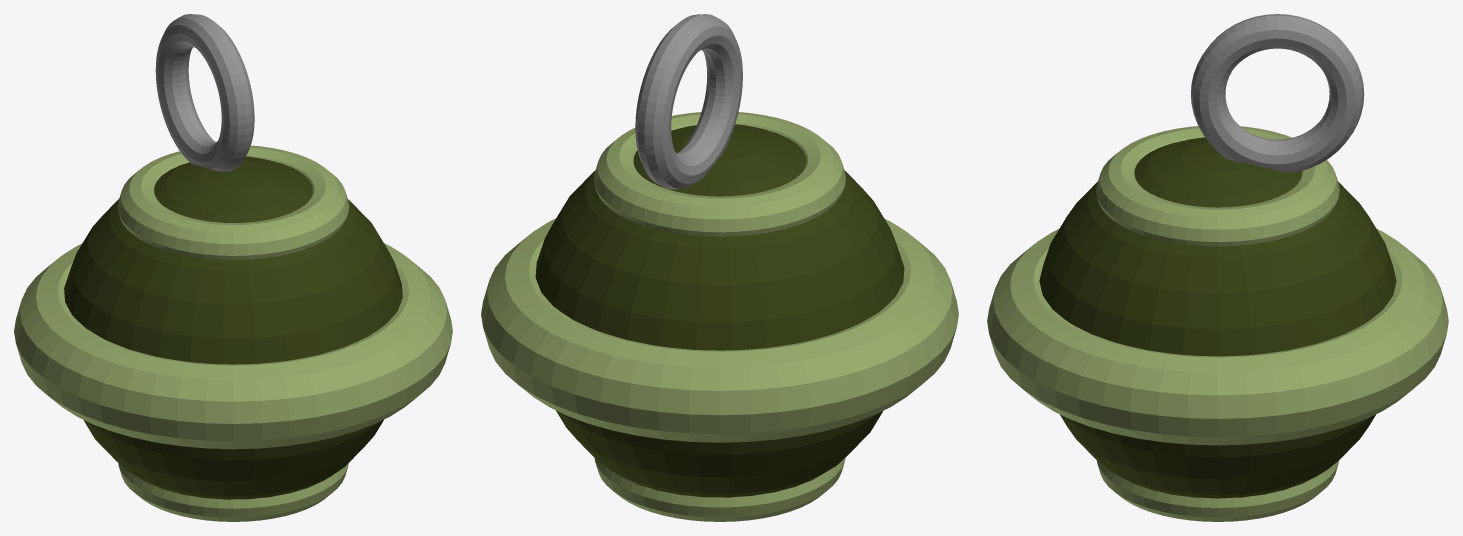
Rendered from Grenade.fbx.
3 renders of one model, left to right at view 1: azimuth 30°, elevation 25°; view 2: azimuth 150°, elevation 25°; view 3: azimuth 270°, elevation 25°, orthographic. The views are drawn at different scales.
Parts seen in each view (by area): view 1: Sphere, Torus, Torus.001, Torus.003, Torus.002; view 2: Sphere, Torus, Torus.001, Torus.003, Torus.002; view 3: Sphere, Torus, Torus.003, Torus.001, Torus.002.
Part boxes in pixels (<box>): Sphere: <box>64,156,402,499</box>; Torus: <box>14,243,452,449</box>; Torus.001: <box>117,145,349,259</box>; Torus.003: <box>155,14,254,171</box>; Torus.002: <box>118,463,348,521</box>; Sphere: <box>535,124,904,497</box>; Torus: <box>481,218,958,442</box>; Torus.001: <box>594,112,845,236</box>; Torus.003: <box>635,14,742,189</box>; Torus.002: <box>594,458,845,521</box>; Sphere: <box>1039,137,1396,498</box>; Torus: <box>987,229,1448,445</box>; Torus.003: <box>1191,14,1364,172</box>; Torus.001: <box>1096,126,1339,246</box>; Torus.002: <box>1097,461,1338,521</box>.
Bounding box in the file's own units: 250 × 283 × 250.
